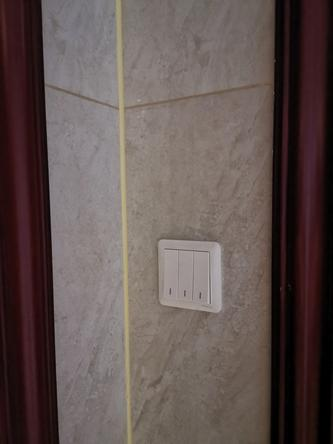switch: (193, 247, 214, 308), (174, 247, 195, 307), (159, 246, 181, 301)
